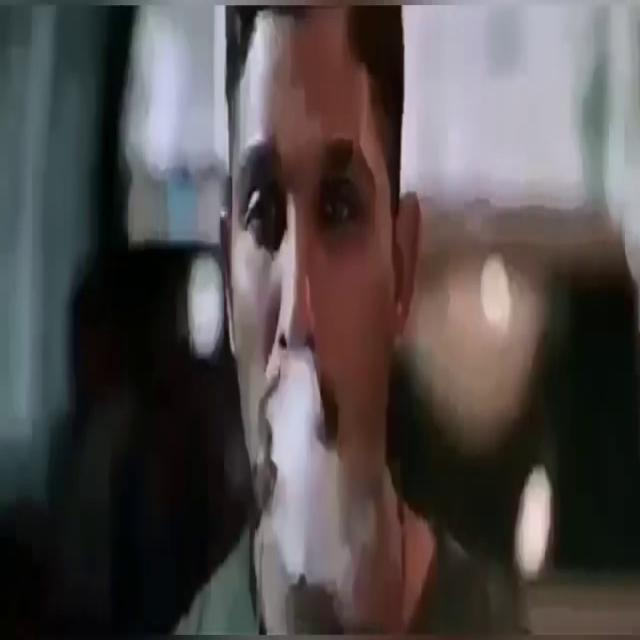smoking: (234, 125, 390, 608)
